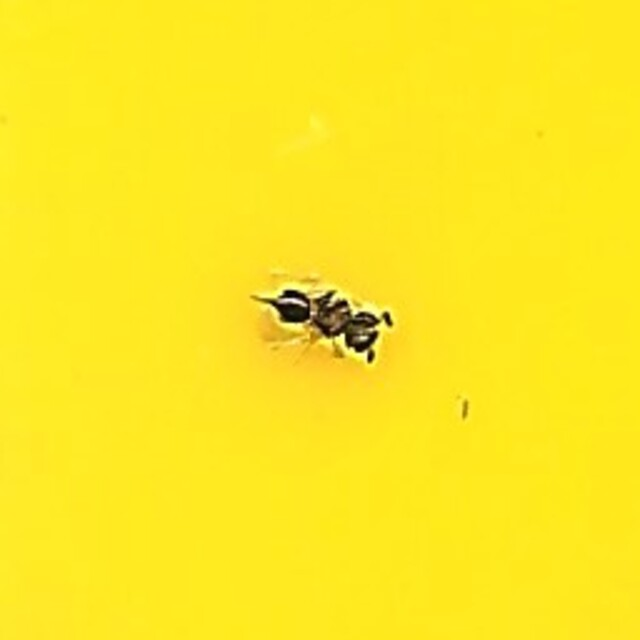Hymenoptera: (250, 271, 390, 369)
